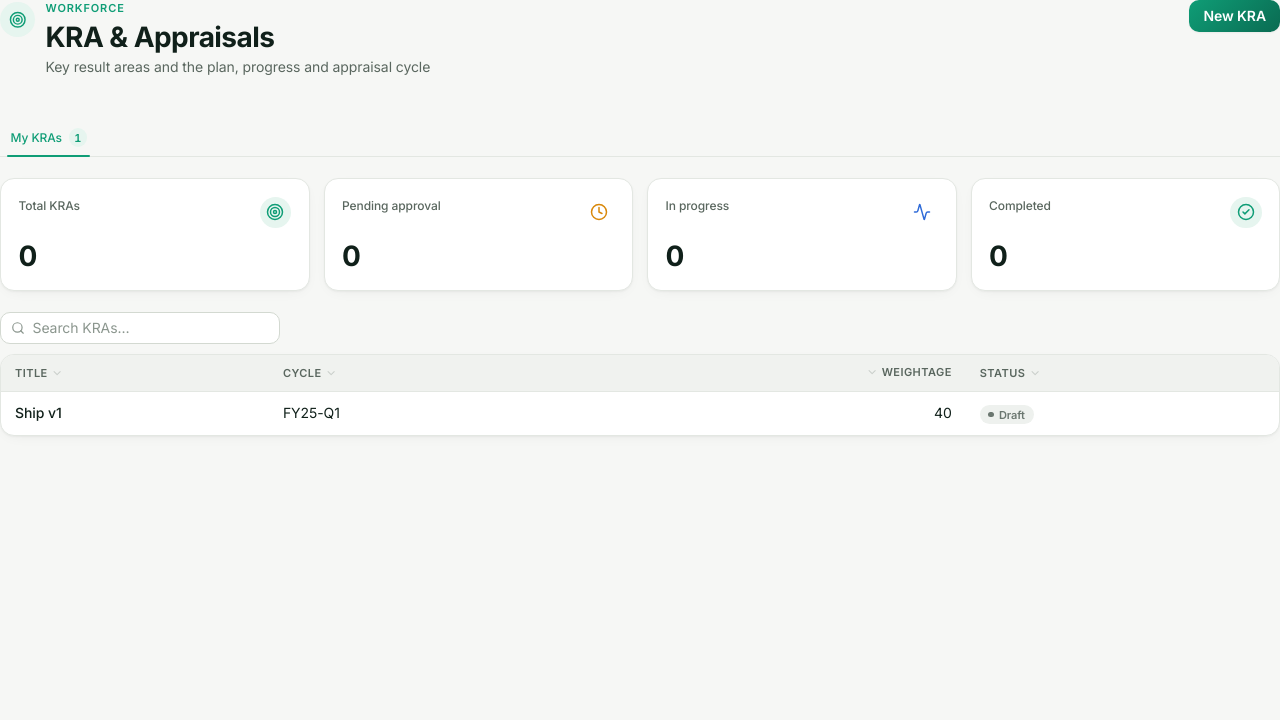
Test: KraPage — employee › opens a draft in the drawer with a Submit for approval action
Step 1. Click the text "Ship v1" → point(38, 413), box [15,404,62,421]
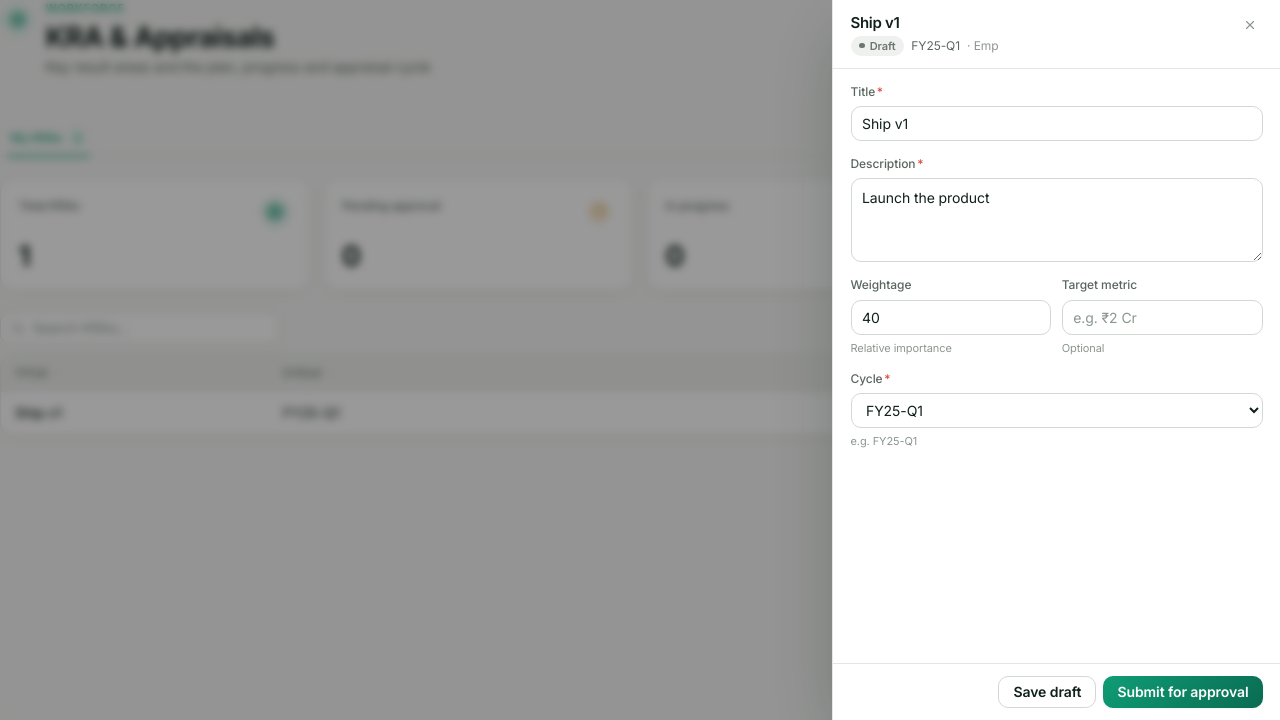
Check: the button "Submit for approval" is shown, box [1103,676,1262,708]
